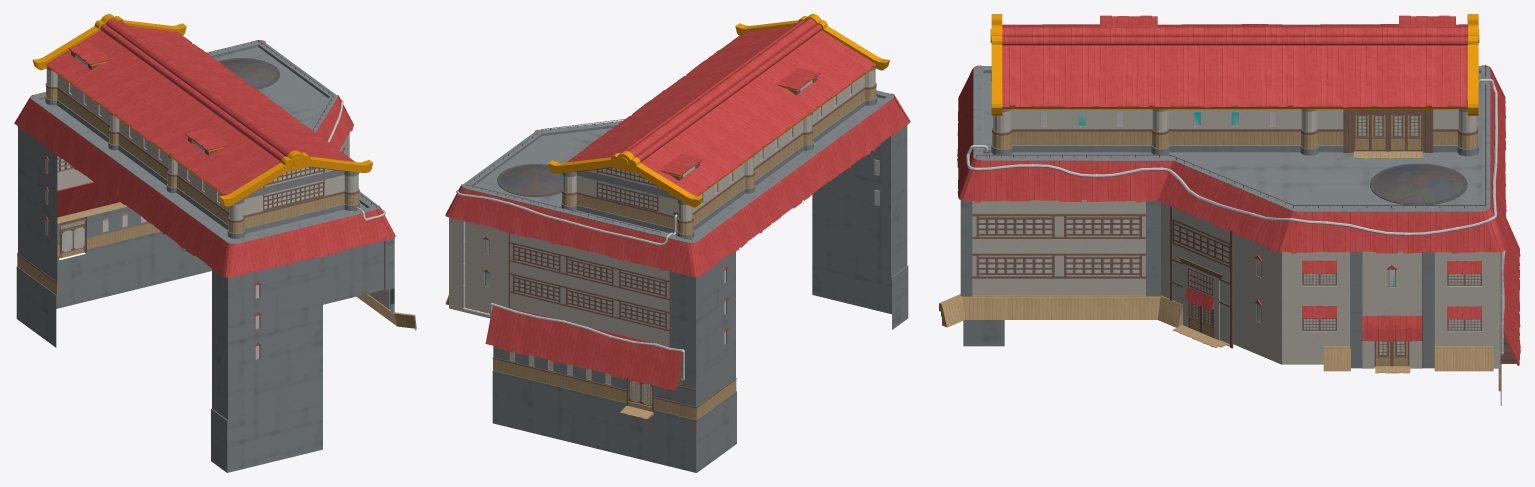
File: SM_ENV_KNVLLG_AreaB_Building_A_Part_02.fbx
3 renders of one model, left to right at view 1: azimuth 30°, elevation 25°; view 2: azimuth 150°, elevation 25°; view 3: azimuth 270°, elevation 25°, orthographic. The views are drawn at different scales.
Parts seen in each view (by area): view 1: SM_ENV_KNVLLG_AreaB_Building_A_Part_02.mo; view 2: SM_ENV_KNVLLG_AreaB_Building_A_Part_02.mo; view 3: SM_ENV_KNVLLG_AreaB_Building_A_Part_02.mo.
Boxes of the visible parts, left/top/right/bottom form: SM_ENV_KNVLLG_AreaB_Building_A_Part_02.mo: left=14, top=14, right=416, bottom=472; SM_ENV_KNVLLG_AreaB_Building_A_Part_02.mo: left=445, top=14, right=910, bottom=472; SM_ENV_KNVLLG_AreaB_Building_A_Part_02.mo: left=939, top=14, right=1520, bottom=405.
Size of the model in its own units: 8065 by 8627 by 12232.
